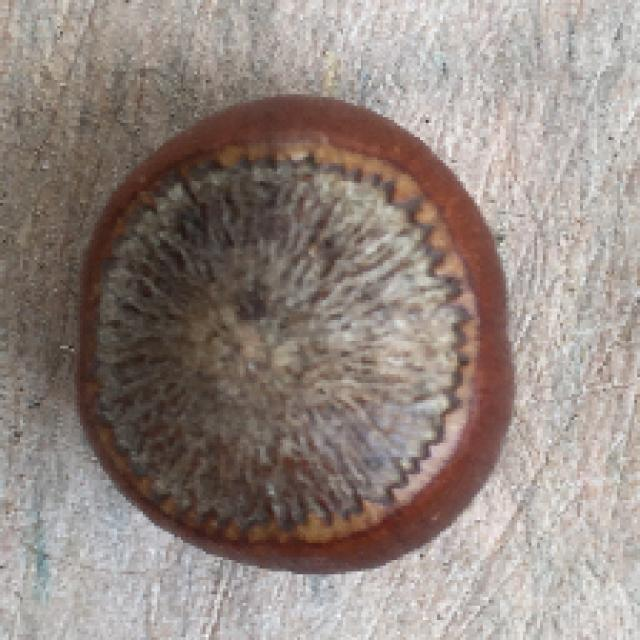qualityHazelnut: (61, 90, 529, 568)
